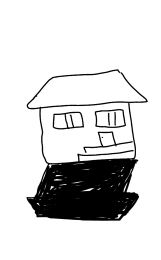closed_window: (93, 106, 128, 131), (49, 110, 87, 132)
door: (96, 132, 120, 157)
roof: (24, 66, 152, 111)
shadow: (22, 153, 149, 228)
wall: (36, 97, 143, 164)
